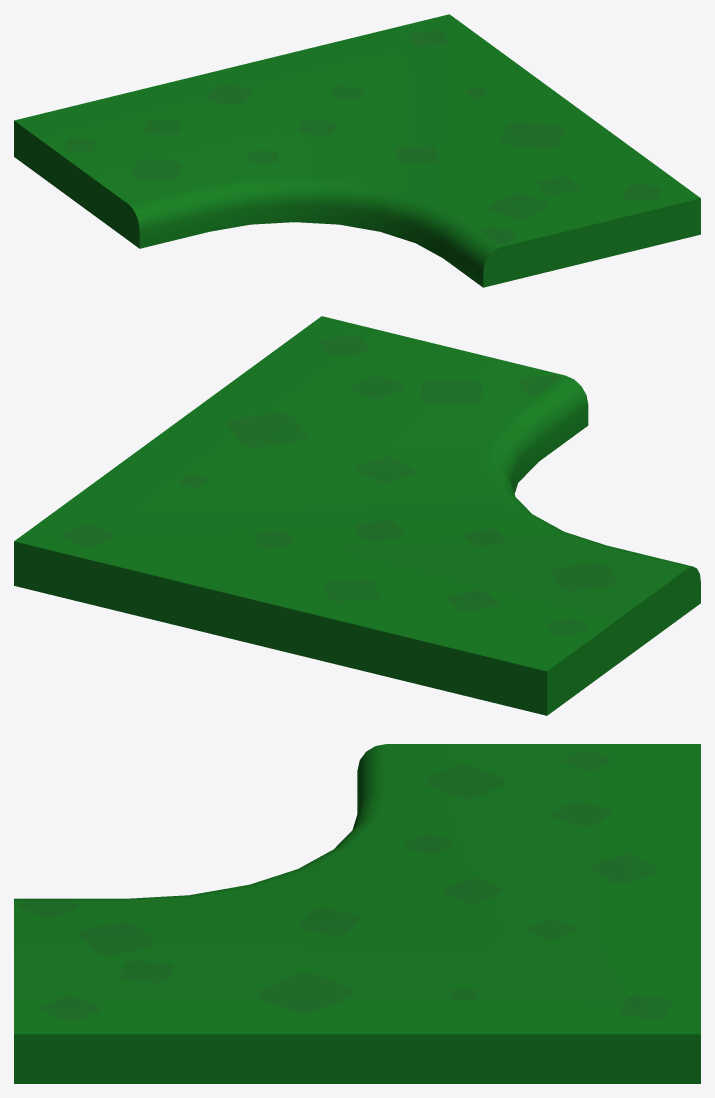
File: GF_ICorner_1_3.glb
The picture shows the model from 3 angles, top to bottom: view 1: azimuth 30°, elevation 25°; view 2: azimuth 150°, elevation 25°; view 3: azimuth 270°, elevation 25°; orthographic projection. The views are drawn at different scales.
Parts seen in each view (by area): view 1: GF_ICorner_1_3; view 2: GF_ICorner_1_3; view 3: GF_ICorner_1_3.
Boxes of the visible parts, x1=… form: GF_ICorner_1_3: x1=14, y1=14, x2=700, y2=287; GF_ICorner_1_3: x1=14, y1=316, x2=700, y2=715; GF_ICorner_1_3: x1=14, y1=744, x2=700, y2=1083.
Size of the model in its own units: 4 by 0.3187 by 4.
Materials: 1 (1 with a texture image).
